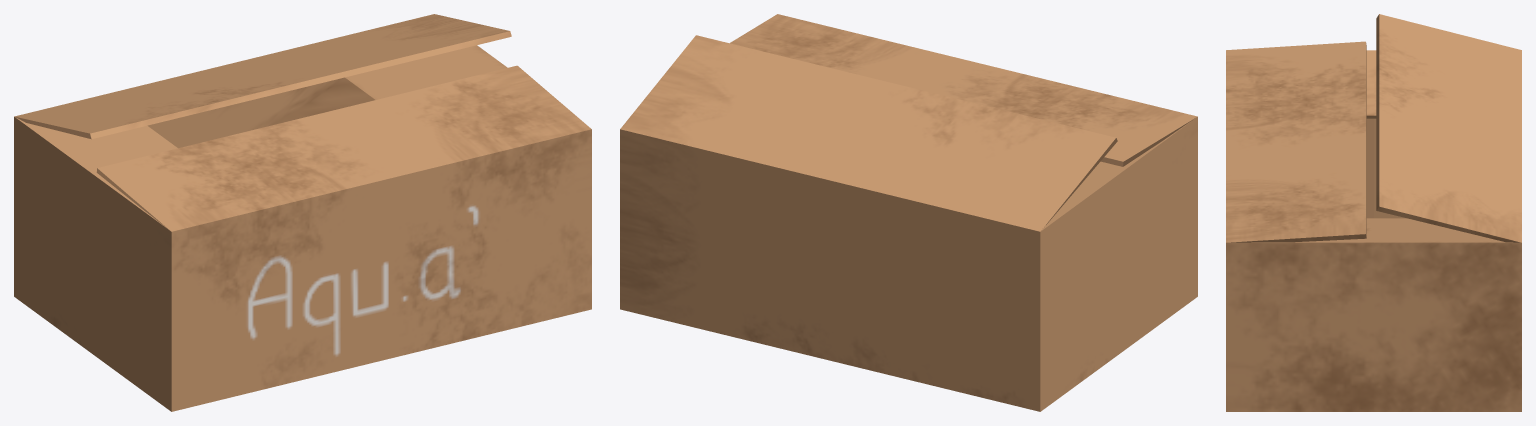
File: Kardus.fbx
3 views of the same model, side by side, from view 1: azimuth 30°, elevation 25°; view 2: azimuth 150°, elevation 25°; view 3: azimuth 270°, elevation 25° (orthographic). The views are drawn at different scales.
Visible parts, largest first — view 1: Cube.011; view 2: Cube.011; view 3: Cube.011.
Boxes of the visible parts, bbox=[...] form: Cube.011: bbox=[14, 14, 591, 411]; Cube.011: bbox=[620, 14, 1197, 411]; Cube.011: bbox=[1226, 14, 1521, 411].
Size of the model in its own units: 1.27 by 0.6291 by 0.8211.
1 material, 1 textured.
